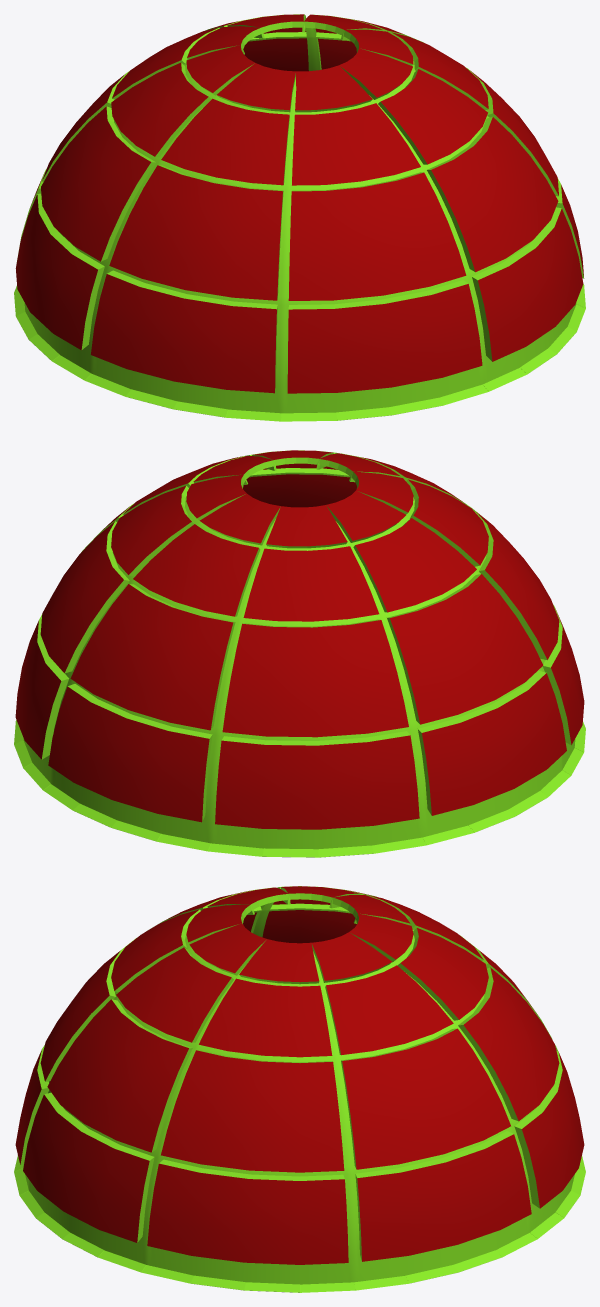
File: DomeWring.fbx
3 renders of one model, top to bottom at view 1: azimuth 30°, elevation 25°; view 2: azimuth 150°, elevation 25°; view 3: azimuth 270°, elevation 25°, orthographic.
Visible parts, largest first — view 1: pSphere6; view 2: pSphere6; view 3: pSphere6.
Boxes of the visible parts, x1=… form: pSphere6: x1=14, y1=14, x2=585, y2=421; pSphere6: x1=14, y1=450, x2=585, y2=857; pSphere6: x1=14, y1=886, x2=585, y2=1292.
Size of the model in its own units: 215 by 105 by 215.
